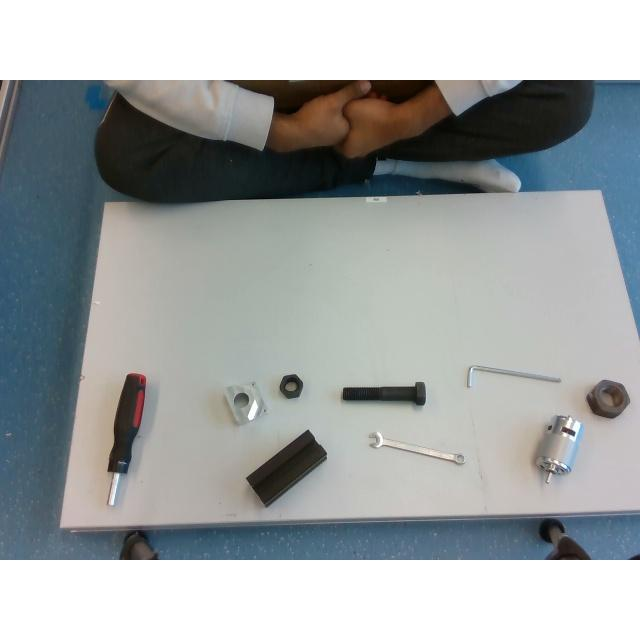M20: (278, 374, 302, 398)
M20_100: (342, 381, 426, 405)
M30: (587, 379, 629, 416)
Motor2: (535, 414, 583, 482)
S40_40_B: (246, 430, 326, 506)
